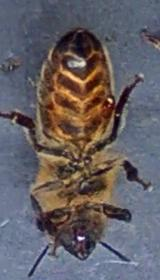varroa_mite: (96, 90, 118, 120)
